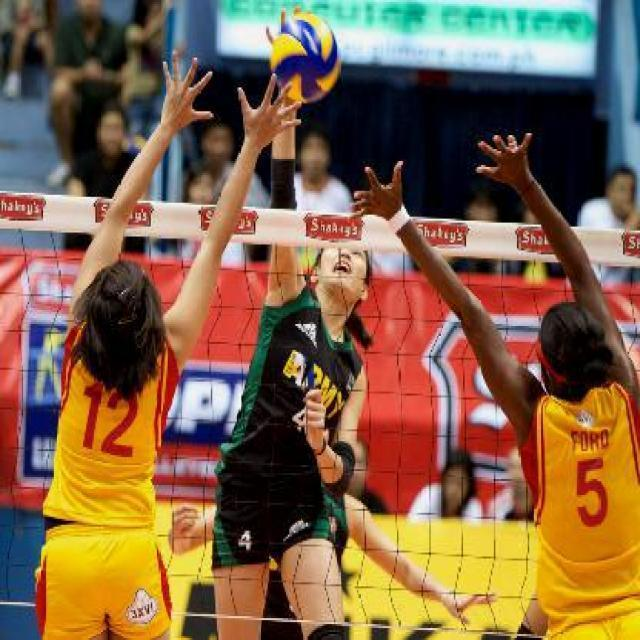volleyball: (270, 13, 339, 102)
